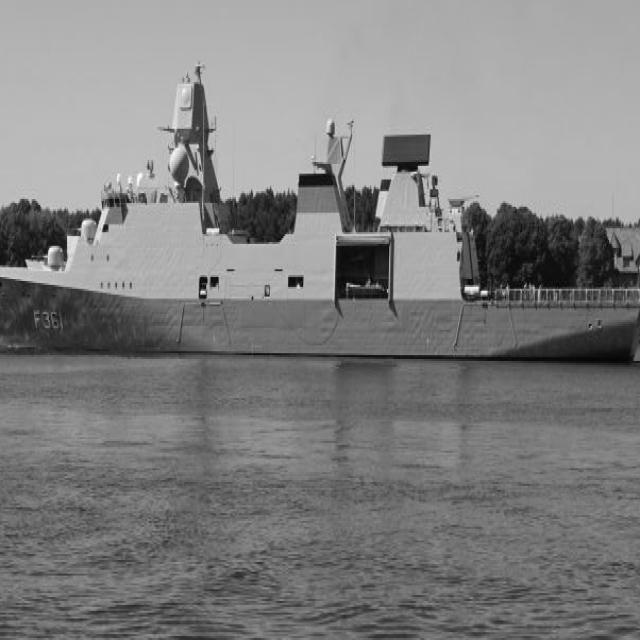Fragata: (1, 54, 640, 364)
